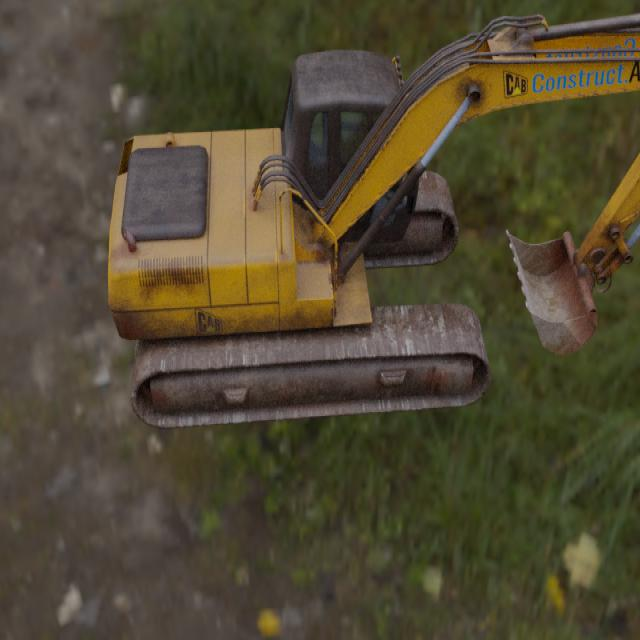excavator: (107, 12, 640, 429)
